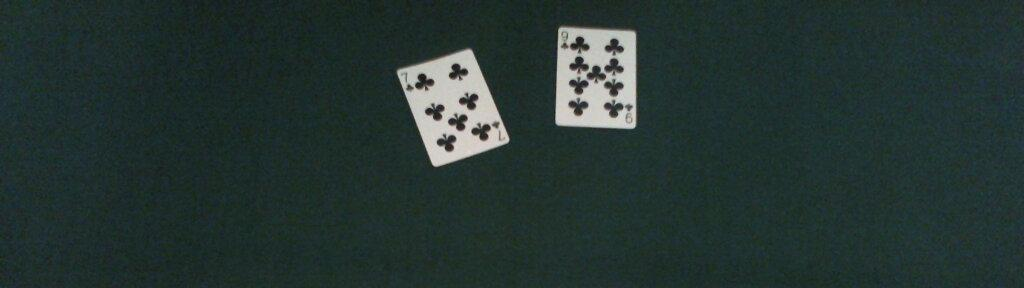nine: (552, 26, 636, 130)
seven: (395, 49, 512, 167)
